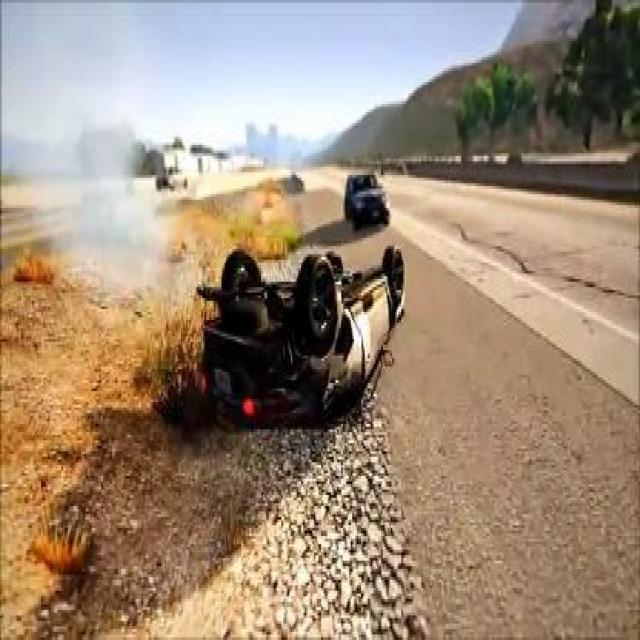accident: (187, 238, 416, 427)
